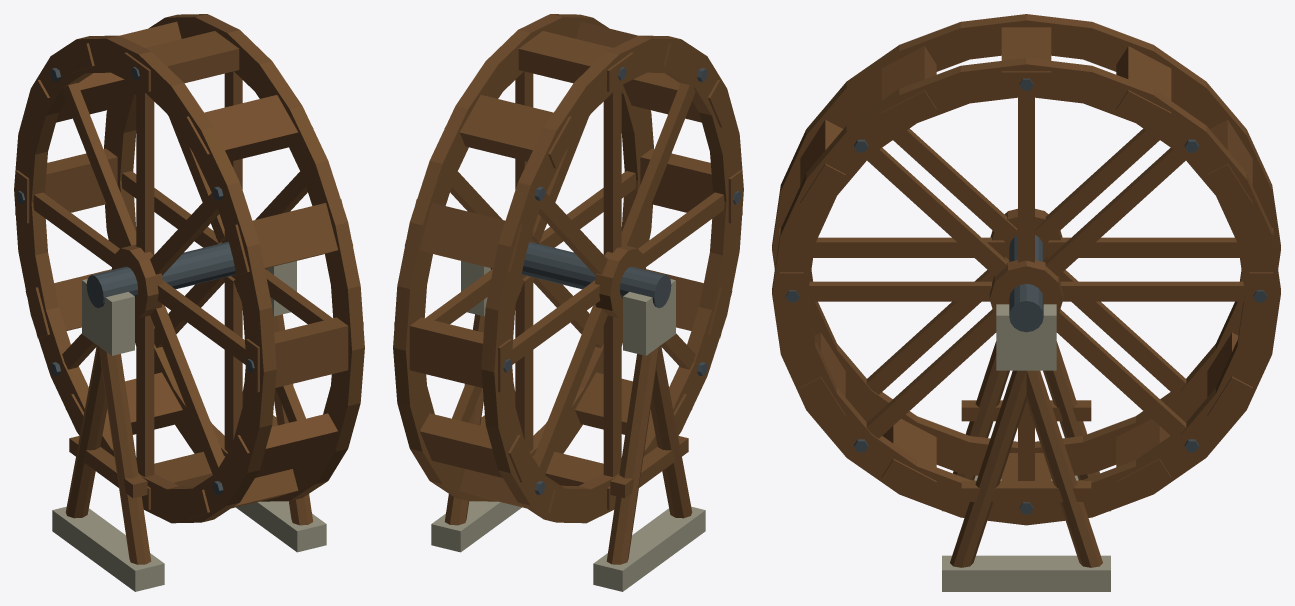
File: waterwheel_bank.glb
3 views of the same model, side by side, from view 1: azimuth 30°, elevation 25°; view 2: azimuth 150°, elevation 25°; view 3: azimuth 270°, elevation 25° (orthographic).
Visible parts, largest first — view 1: Wheel, BankSupport, FixedAxle; view 2: Wheel, BankSupport, FixedAxle; view 3: Wheel, BankSupport, FixedAxle.
Boxes of the visible parts, box(x1,y1,x2,y2) form: Wheel: box(14, 14, 364, 523); BankSupport: box(52, 314, 326, 591); FixedAxle: box(82, 241, 296, 355); Wheel: box(393, 14, 743, 523); BankSupport: box(431, 314, 705, 591); FixedAxle: box(461, 241, 675, 355); Wheel: box(772, 14, 1280, 525); BankSupport: box(942, 341, 1110, 591); FixedAxle: box(996, 235, 1056, 370).
Bounding box in the file's own units: 2.08 × 5.15 × 4.7.
